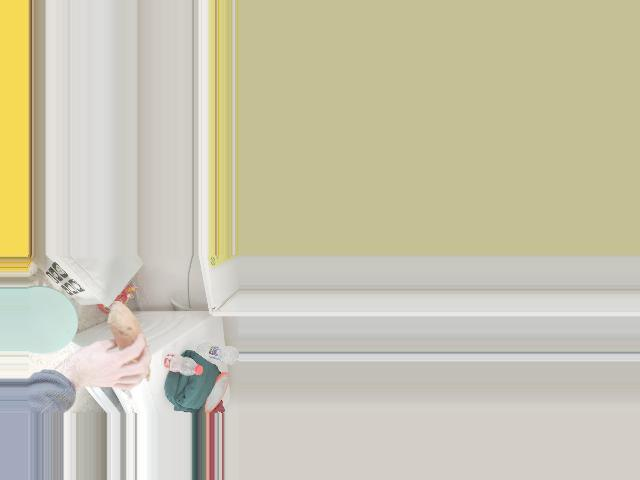sweet_potato: (114, 308, 149, 384)
